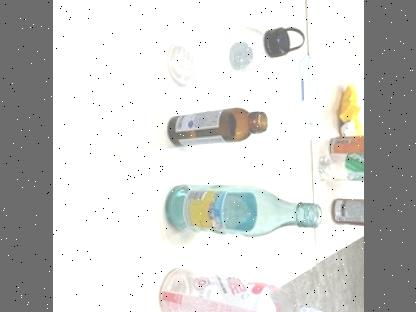Others: (161, 180, 323, 244), (164, 104, 268, 154)
Plastic Bottle: (166, 19, 306, 91), (153, 262, 329, 312)
